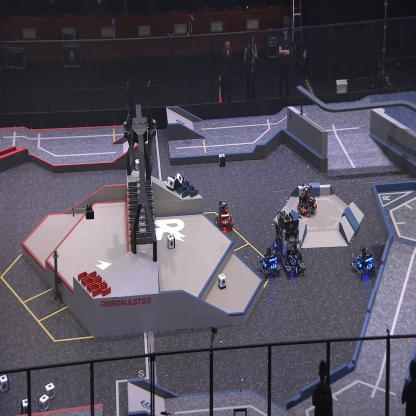car: (280, 217, 306, 278), (267, 210, 291, 261), (351, 246, 377, 279), (257, 246, 282, 278), (297, 183, 317, 216), (214, 200, 233, 234)
